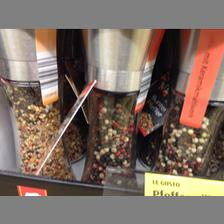Gewuerze: (82, 28, 162, 191), (0, 28, 76, 180), (148, 28, 220, 176)
